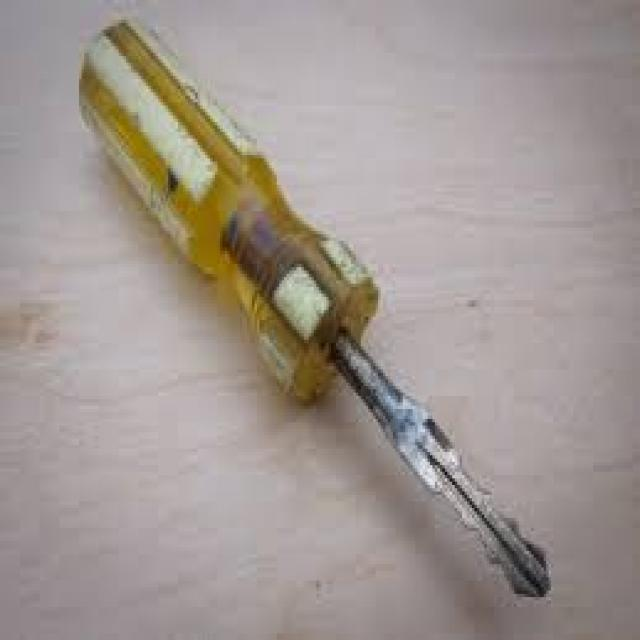screwdriver: (68, 2, 562, 624)
